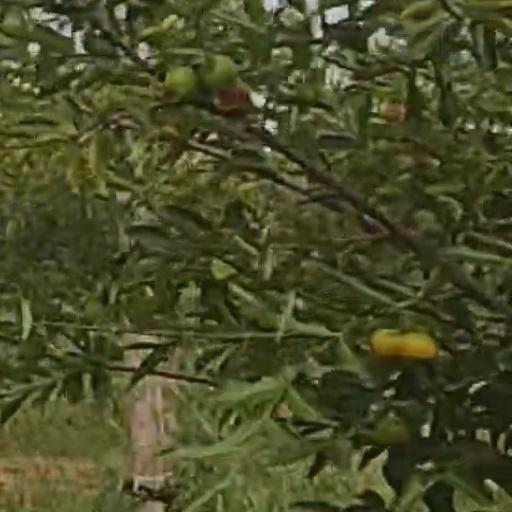acerola_verde: (202, 56, 234, 88), (169, 68, 189, 99)
acerola_vermelha: (402, 336, 438, 359), (373, 329, 400, 352), (216, 89, 245, 108)
